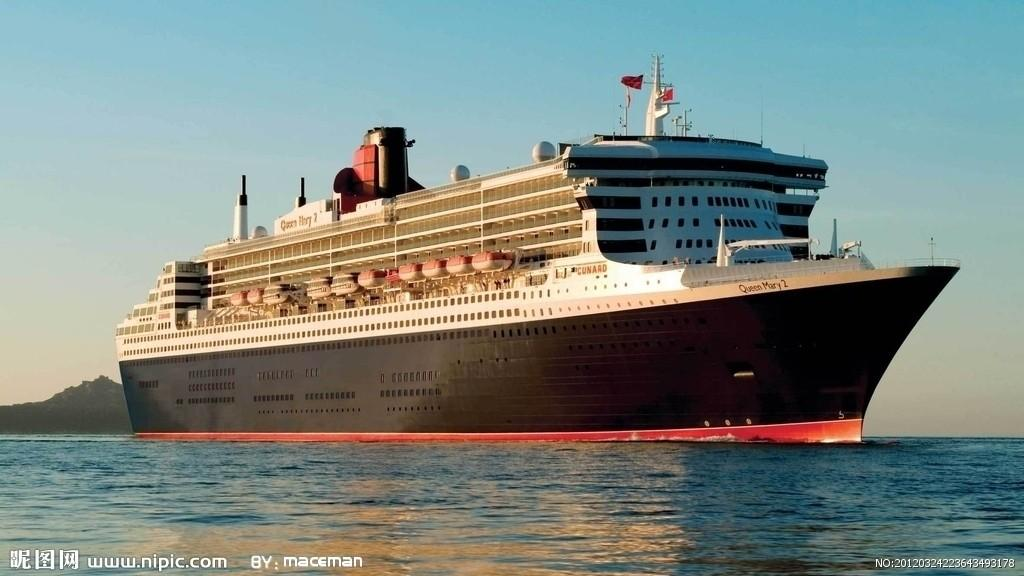youlun: (115, 60, 963, 446)
